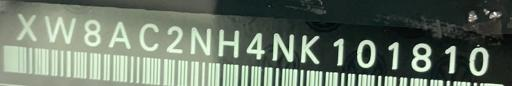letter: (42, 13, 76, 47), (461, 44, 495, 77), (132, 22, 164, 53), (11, 11, 41, 43), (406, 41, 436, 73), (267, 30, 295, 64), (186, 25, 214, 57), (352, 37, 380, 69), (298, 31, 324, 64), (77, 17, 105, 46), (325, 35, 351, 66), (380, 39, 406, 70), (216, 28, 242, 58), (106, 20, 132, 49), (244, 27, 266, 61), (164, 24, 188, 54), (438, 43, 460, 74)
